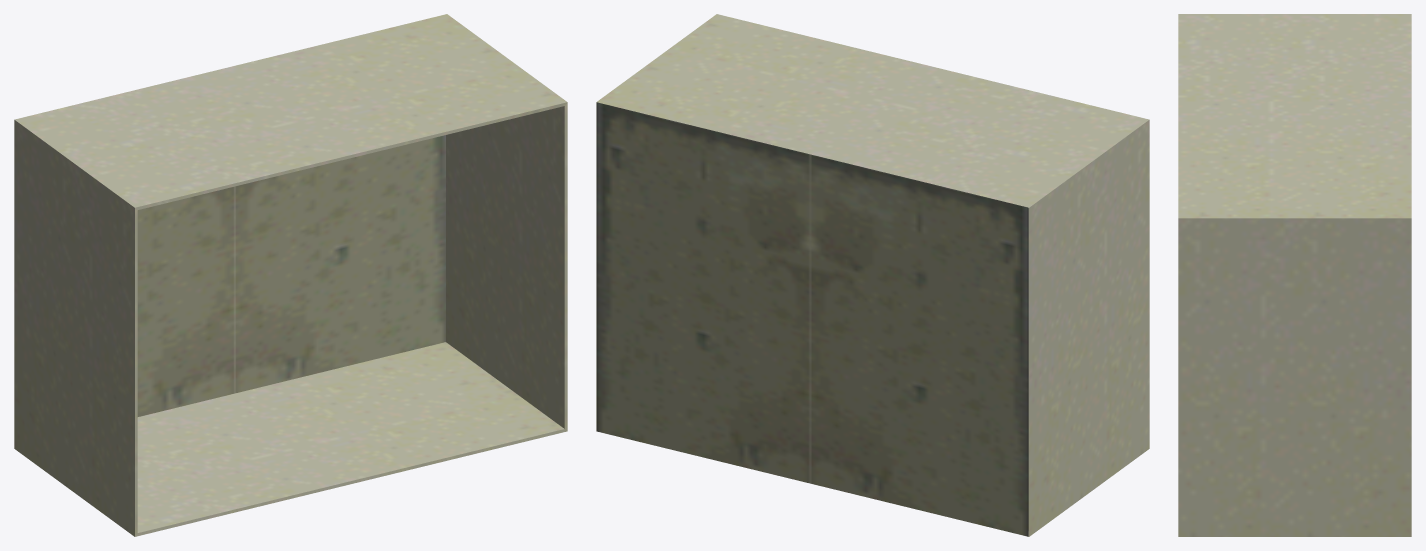
File: file_cabinet_larger_open.obj
3 views of the same model, side by side, from view 1: azimuth 30°, elevation 25°; view 2: azimuth 150°, elevation 25°; view 3: azimuth 270°, elevation 25° (orthographic). The views are drawn at different scales.
Visible parts, largest first — view 1: file_cabinet_larger_open; view 2: file_cabinet_larger_open; view 3: file_cabinet_larger_open.
Boxes of the visible parts, left/top/right/bottom form: file_cabinet_larger_open: left=14, top=14, right=567, bottom=536; file_cabinet_larger_open: left=596, top=14, right=1149, bottom=536; file_cabinet_larger_open: left=1178, top=14, right=1411, bottom=536.
Bounding box in the file's own units: 1.45 × 1.05 × 0.6994.
